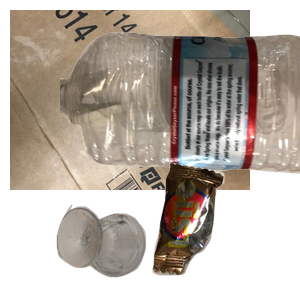cardboard: (10, 10, 250, 190)
glass: (54, 202, 193, 300)
plastic: (60, 30, 300, 196)
trash: (150, 160, 300, 300)
